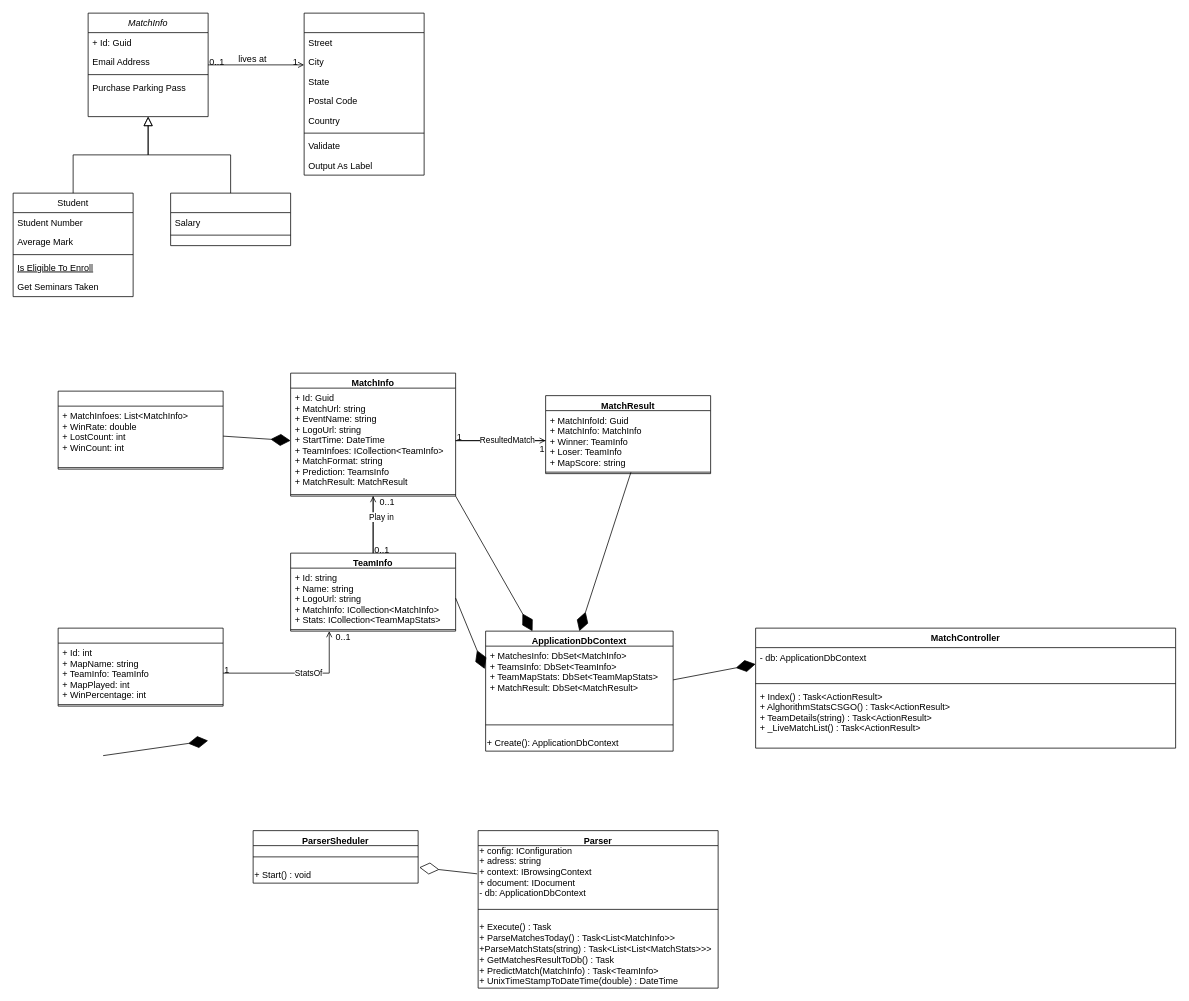
This 1189x1001 diagram has some shape labels left out. The shapes that lost their labels are listed below. From the top down, each one's box as (x1, y1, x2, y2) in pixels, then its label:
(303, 12, 424, 175): Address
(170, 192, 291, 246): Professor
(57, 390, 223, 469): AlghorithmStatsViewModel
(57, 627, 223, 706): TeamMapStats
